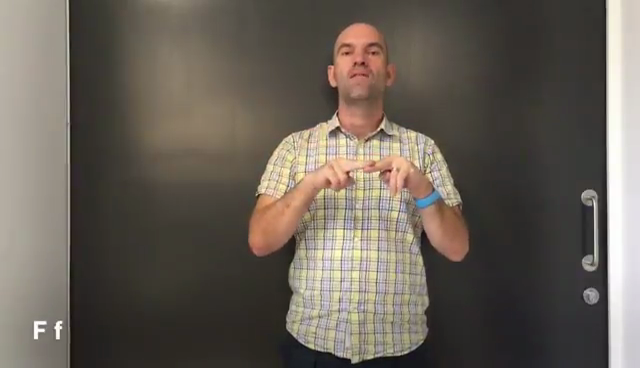F: (308, 147, 427, 203)
